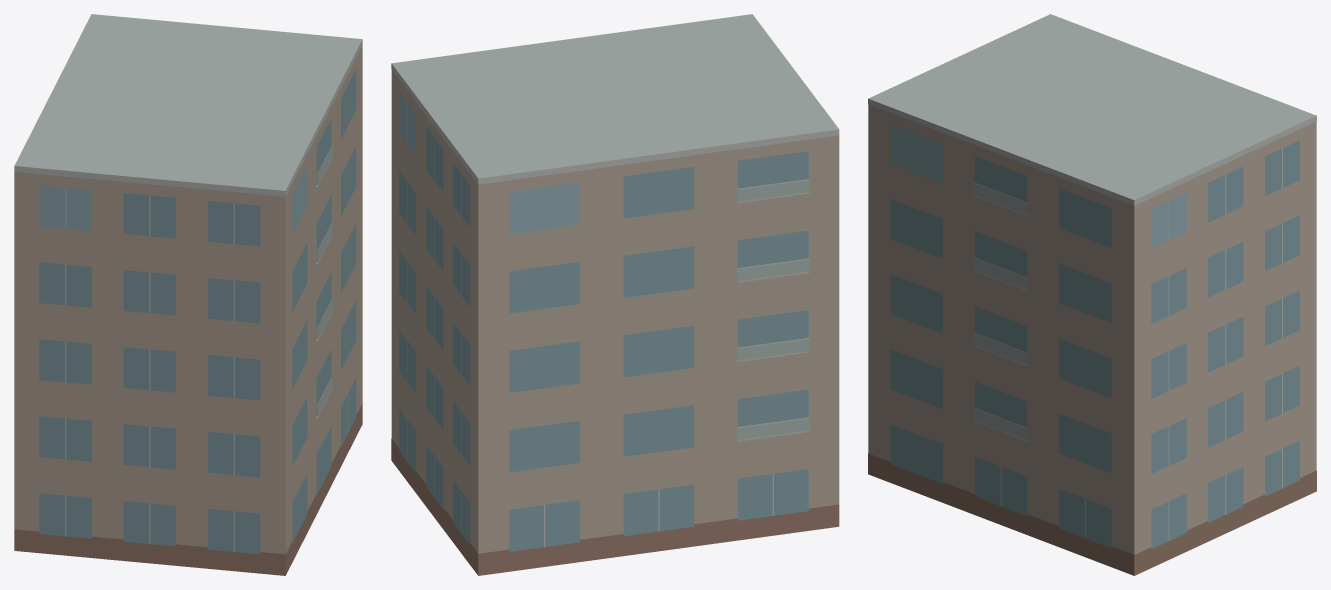
File: survey-upis-33046705.glb
3 views of the same model, side by side, from view 1: azimuth 30°, elevation 25°; view 2: azimuth 150°, elevation 25°; view 3: azimuth 270°, elevation 25° (orthographic). The views are drawn at different scales.
Visible parts, largest first — view 1: survey-upis-33046705.tmp; view 2: survey-upis-33046705.tmp; view 3: survey-upis-33046705.tmp.
Boxes of the visible parts, x1,y1,x2,y2 form: survey-upis-33046705.tmp: (14, 14, 362, 575); survey-upis-33046705.tmp: (391, 14, 839, 575); survey-upis-33046705.tmp: (868, 14, 1316, 575).
Size of the model in its own units: 17.13 by 16.1 by 17.44.
